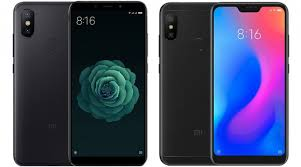mi: (68, 1, 150, 166), (210, 1, 288, 166), (11, 1, 69, 166), (158, 1, 211, 165)
